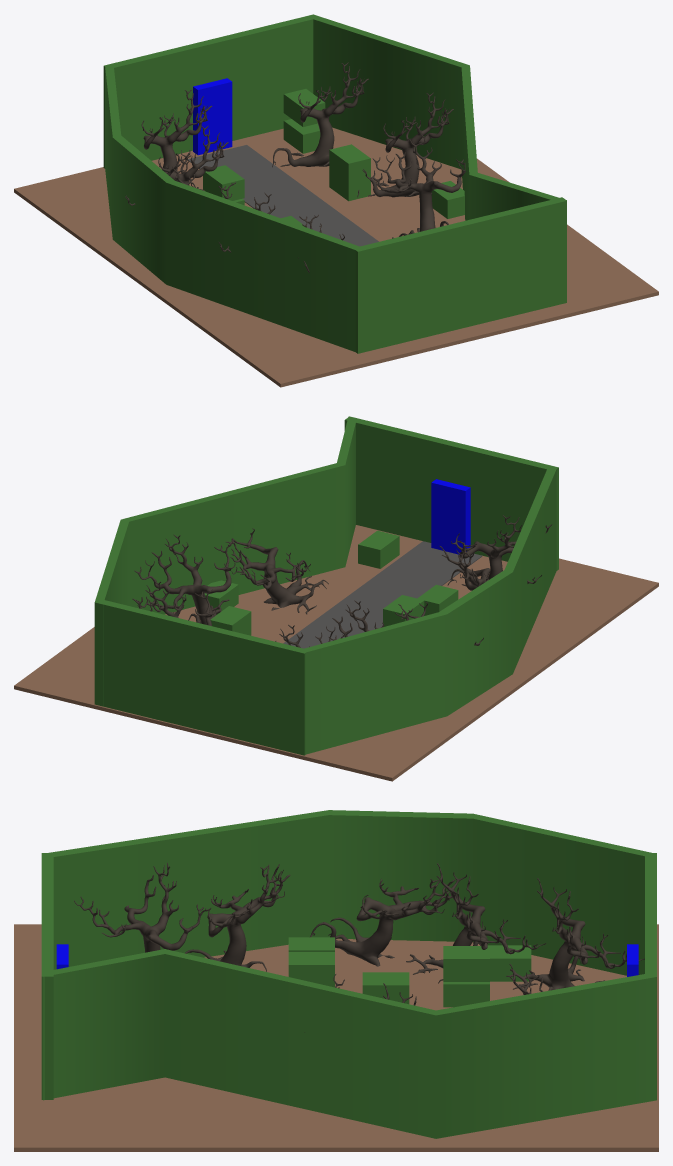
Rendered from Tile3.fbx.
The picture shows the model from 3 angles, top to bottom: view 1: azimuth 30°, elevation 25°; view 2: azimuth 150°, elevation 25°; view 3: azimuth 270°, elevation 25°; orthographic projection. The views are drawn at different scales.
Visible parts, largest first — view 1: Ground2, TreeWall5, TreeWall7, TreeWall6, TreeWall8, Pathway2, TreeWall9, LeaflessTree7, LeaflessTree5, LeaflessTree6, LeaflessTree3, Bushes11 (+6 smaller); view 2: TreeWall5, Ground2, TreeWall6, TreeWall8, TreeWall7, Pathway2, TreeWall10, LeaflessTree5, LeaflessTree6, LeaflessTree8, Bushes7, Bushes13 (+5 smaller); view 3: TreeWall6, TreeWall5, Ground2, LeaflessTree1, LeaflessTree3, TreeWall7, LeaflessTree9, LeaflessTree8, LeaflessTree2, Bushes12, TreeWall8, Bushes13 (+4 smaller).
Part boxes in pixels (x1,y1,x2,y2): Ground2: (14,127,658,387); TreeWall5: (105,63,365,351); TreeWall7: (353,197,566,353); TreeWall6: (305,14,566,220); TreeWall8: (103,15,317,168); Pathway2: (188,145,378,246); TreeWall9: (193,78,232,155); LeaflessTree7: (272,62,368,167); LeaflessTree5: (362,134,465,238); LeaflessTree6: (357,92,453,197); LeaflessTree3: (141,89,212,190); Bushes11: (329,144,370,182); TreeWall5: (296,466,556,754); Ground2: (14,525,658,781); TreeWall6: (94,416,356,706); TreeWall8: (96,599,307,755); TreeWall7: (344,416,558,570); Pathway2: (283,541,482,648); TreeWall10: (431,479,470,554); LeaflessTree5: (226,528,328,614); LeaflessTree6: (134,534,235,624); LeaflessTree8: (447,515,552,590); Bushes7: (358,530,399,568); Bushes13: (383,595,424,626); TreeWall6: (43,949,656,1138); TreeWall5: (43,810,655,975); Ground2: (14,924,658,1151); LeaflessTree1: (310,878,455,966); LeaflessTree3: (506,878,644,990); TreeWall7: (41,853,53,1099); LeaflessTree9: (185,864,290,971); LeaflessTree8: (74,862,209,952); LeaflessTree2: (406,863,546,983); Bushes12: (443,946,489,981); TreeWall8: (645,853,656,1099); Bushes13: (288,952,334,985).
Bounding box in the file's own units: 46.68 × 13.74 × 56.97.
